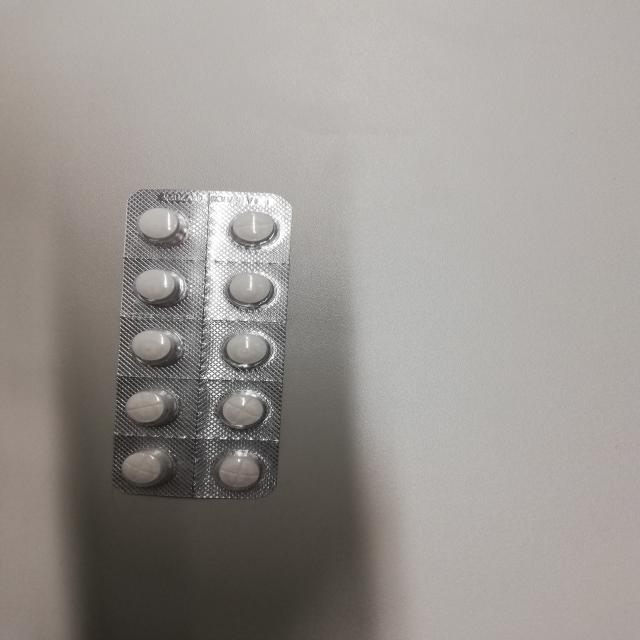Pill: (211, 322, 287, 374), (206, 446, 284, 494), (122, 257, 191, 310), (118, 319, 182, 371), (211, 391, 287, 434), (215, 263, 281, 311), (113, 440, 176, 490), (126, 202, 194, 248), (215, 207, 285, 250), (122, 383, 176, 428)
